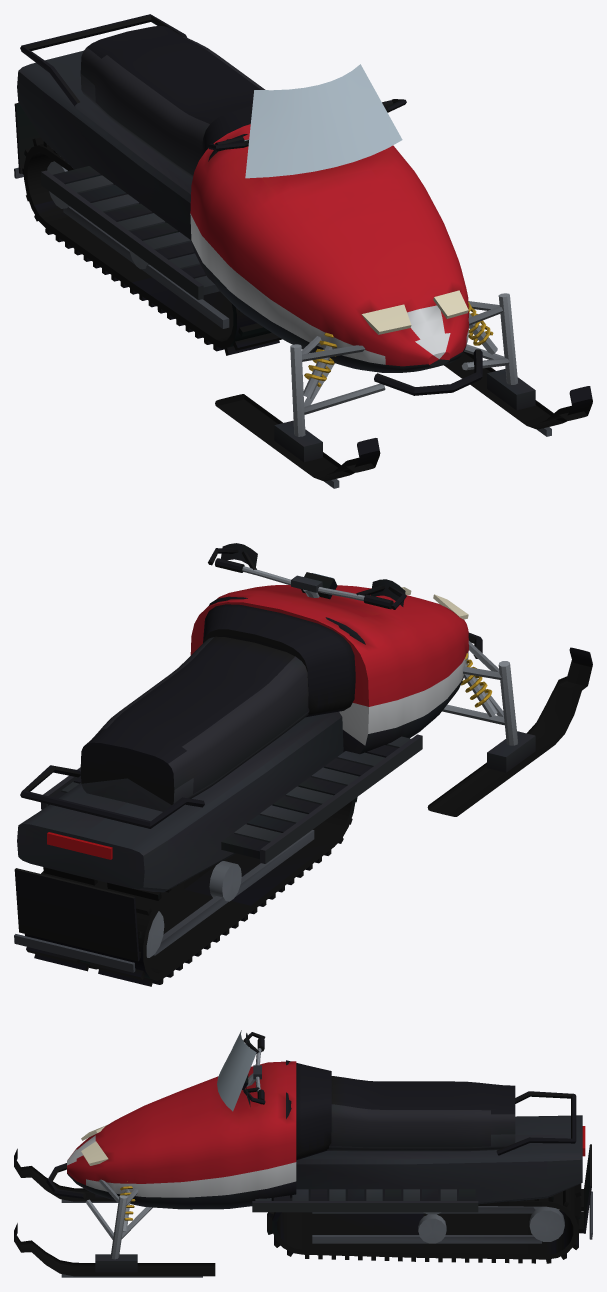
The model's file is snowmobile.glb.
3 renders of one model, top to bottom at view 1: azimuth 30°, elevation 25°; view 2: azimuth 150°, elevation 25°; view 3: azimuth 270°, elevation 25°, orthographic. The views are drawn at different scales.
Visible parts, largest first — view 1: sled_dark, sled_paint, sled_glass, sled_metal, sled_lamp; view 2: sled_dark, sled_paint, sled_metal; view 3: sled_dark, sled_paint, sled_metal, sled_glass, sled_lamp.
Boxes of the visible parts, <box> form: sled_dark: <box>14,14,592,488</box>; sled_paint: <box>190,124,468,372</box>; sled_glass: <box>245,64,402,178</box>; sled_metal: <box>47,139,517,436</box>; sled_lamp: <box>361,290,468,334</box>; sled_dark: <box>14,543,592,986</box>; sled_paint: <box>190,585,468,754</box>; sled_metal: <box>146,566,517,957</box>; sled_dark: <box>14,1032,592,1277</box>; sled_paint: <box>67,1061,296,1209</box>; sled_metal: <box>85,1048,564,1259</box>; sled_glass: <box>217,1030,256,1111</box>; sled_lamp: <box>81,1124,108,1165</box>.
Size of the model in its own units: 1.14 by 1.31 by 3.28.
